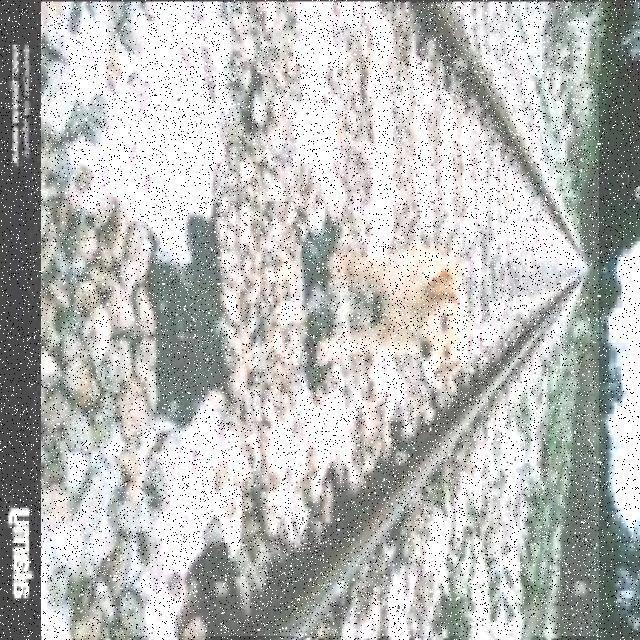rail: (42, 4, 600, 637)
